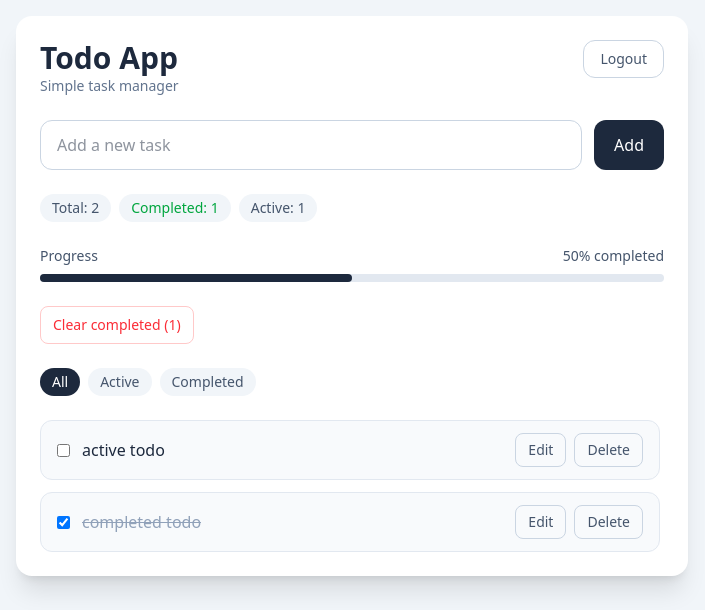
Test: Todoページ：フィルターボタンのテスト › 「Completed」をクリックすると、完了したタスクのみが表示される
Expected: the text "active todo" is shown, [82,438,165,462]
Expected: the text "completed todo" is shown, [82,510,201,534]
// 完了済みタスクのフィルターボタンをクリック
Click the button "Completed" at (208, 382), box [160,368,256,396]
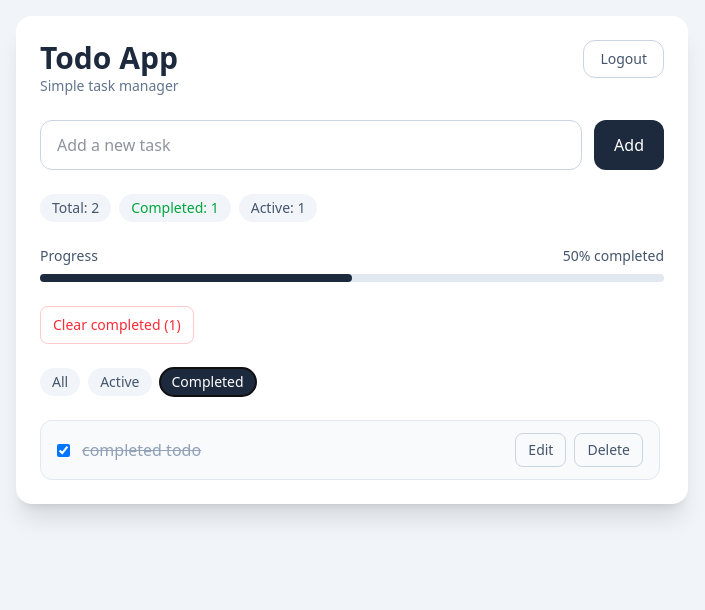
Expected: the text "completed todo" is shown, [82,438,201,462]
Result: the text "active todo" is gone
